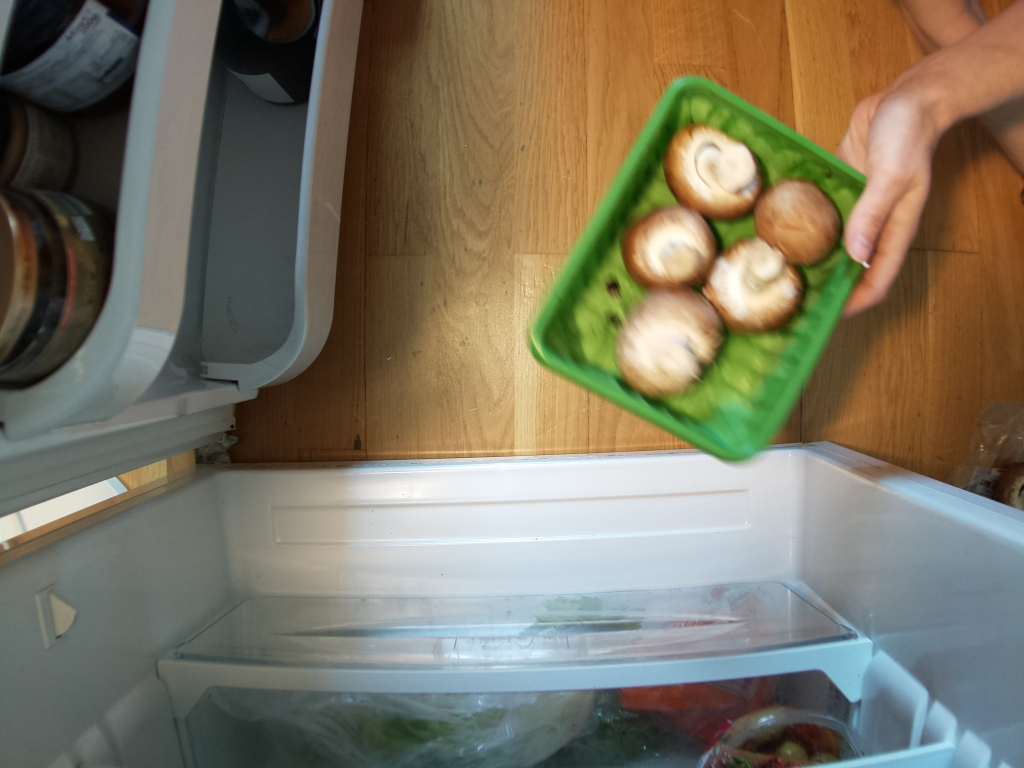mushrooms: (527, 76, 883, 465)
